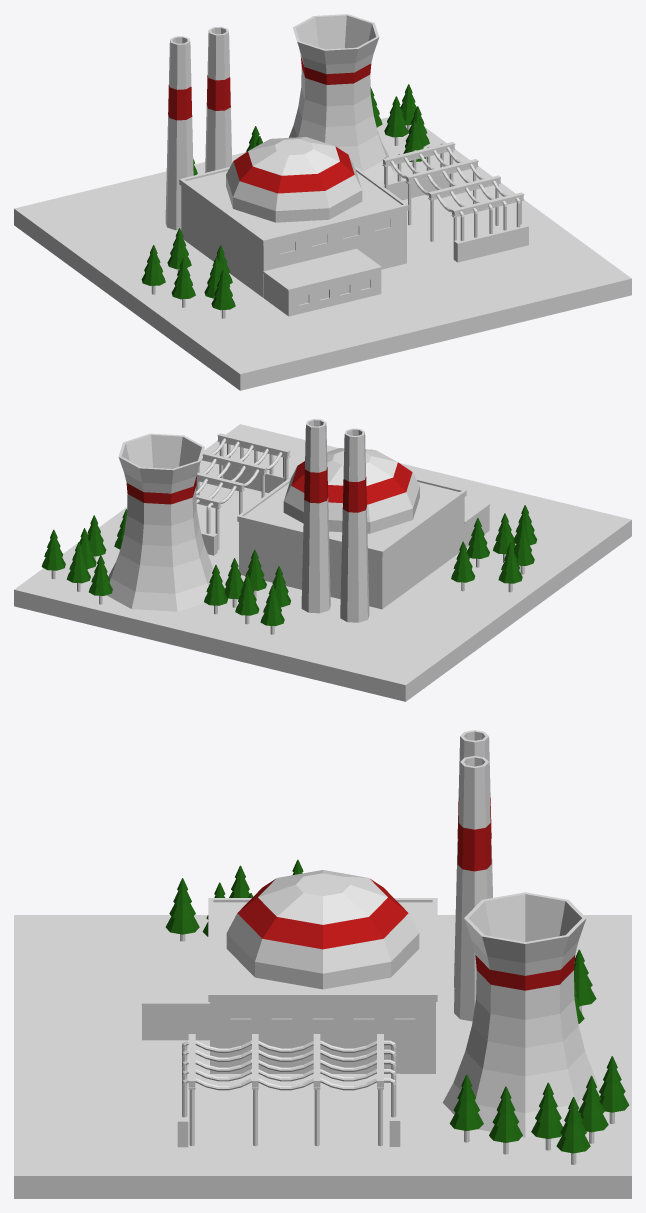
Rendered from power plant.fbx.
3 renders of one model, top to bottom at view 1: azimuth 30°, elevation 25°; view 2: azimuth 150°, elevation 25°; view 3: azimuth 270°, elevation 25°, orthographic. The views are drawn at different scales.
Parts seen in each view (by area): view 1: Cube, Cube.001, Cylinder, Cube.002, Cylinder.003, Cylinder.002, Cylinder.013, Cylinder.019, Cylinder.005, Cylinder.004, Cylinder.006; view 2: Cube, Cube.001, Cylinder, Cylinder.003, Cylinder.002, Cube.002, Cylinder.005, Cylinder.025, Cylinder.012, Cylinder.016, Cylinder.006, Cylinder.008 (+10 smaller); view 3: Cube, Cube.001, Cylinder, Cube.002, Cylinder.002, Cylinder.003, Cylinder.015, Cylinder.025, Cylinder.014, Cylinder.013, Cylinder.019, Cylinder.008 (+2 smaller).
Boxes of the visible parts, left/top/right/bottom form: Cube: left=14, top=117, right=631, bottom=390; Cube.001: left=179, top=137, right=408, bottom=316; Cylinder: left=289, top=14, right=394, bottom=182; Cube.002: left=379, top=142, right=528, bottom=262; Cylinder.003: left=165, top=36, right=193, bottom=230; Cylinder.002: left=205, top=26, right=232, bottom=172; Cylinder.013: left=384, top=96, right=408, bottom=145; Cylinder.019: left=211, top=269, right=235, bottom=318; Cylinder.005: left=141, top=245, right=165, bottom=294; Cylinder.004: left=171, top=258, right=195, bottom=307; Cylinder.006: left=167, top=228, right=191, bottom=272; Cube: left=14, top=424, right=631, bottom=701; Cube.001: left=237, top=448, right=490, bottom=609; Cylinder: left=106, top=433, right=213, bottom=611; Cylinder.003: left=340, top=428, right=369, bottom=622; Cylinder.002: left=301, top=419, right=330, bottom=613; Cube.002: left=196, top=433, right=291, bottom=555; Cylinder.005: left=498, top=542, right=522, bottom=592; Cylinder.025: left=41, top=529, right=65, bottom=579; Cylinder.012: left=235, top=574, right=259, bottom=624; Cylinder.016: left=260, top=585, right=284, bottom=634; Cylinder.006: left=451, top=541, right=475, bottom=591; Cylinder.008: left=89, top=555, right=112, bottom=604; Cube: left=14, top=915, right=631, bottom=1198; Cube.001: left=141, top=870, right=437, bottom=1073; Cylinder: left=442, top=892, right=600, bottom=1137; Cube.002: left=177, top=1034, right=400, bottom=1147; Cylinder.002: left=454, top=756, right=492, bottom=1021; Cylinder.003: left=454, top=730, right=492, bottom=987; Cylinder.015: left=489, top=1086, right=522, bottom=1154; Cylinder.025: left=556, top=1097, right=590, bottom=1164; Cylinder.014: left=449, top=1074, right=483, bottom=1142; Cylinder.013: left=531, top=1082, right=562, bottom=1150; Cylinder.019: left=165, top=878, right=199, bottom=941; Cylinder.008: left=599, top=1056, right=629, bottom=1124.
Size of the model in its own units: 1818 by 889 by 1818.
